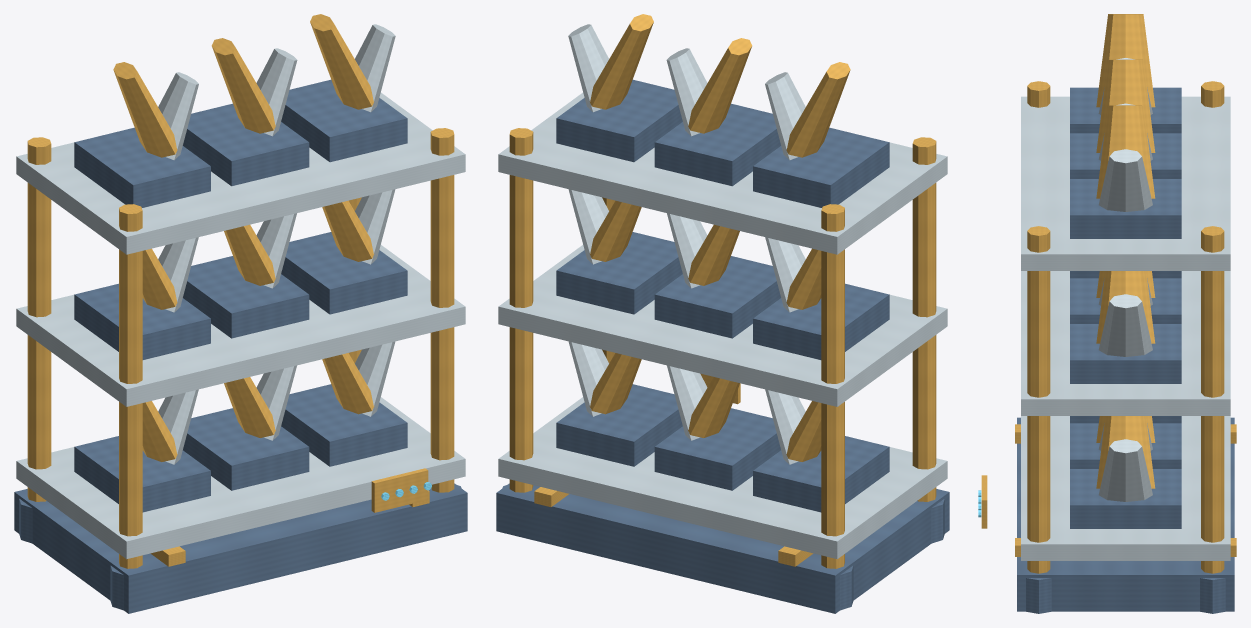
The model's file is atlas100-s054-a01.glb.
3 views of the same model, side by side, from view 1: azimuth 30°, elevation 25°; view 2: azimuth 150°, elevation 25°; view 3: azimuth 270°, elevation 25° (orthographic). The views are drawn at different scales.
Parts seen in each view (by area): view 1: atlas100-s054-a01:part-000, atlas100-s054-a01:part-031, atlas100-s054-a01:part-021, atlas100-s054-a01:part-011, atlas100-s054-a01:part-009, atlas100-s054-a01:part-005, atlas100-s054-a01:part-003, atlas100-s054-a01:part-032, atlas100-s054-a01:part-035, atlas100-s054-a01:part-015, atlas100-s054-a01:part-025, atlas100-s054-a01:part-018 (+23 smaller); view 2: atlas100-s054-a01:part-000, atlas100-s054-a01:part-031, atlas100-s054-a01:part-021, atlas100-s054-a01:part-011, atlas100-s054-a01:part-007, atlas100-s054-a01:part-003, atlas100-s054-a01:part-005, atlas100-s054-a01:part-032, atlas100-s054-a01:part-035, atlas100-s054-a01:part-015, atlas100-s054-a01:part-025, atlas100-s054-a01:part-018 (+22 smaller); view 3: atlas100-s054-a01:part-031, atlas100-s054-a01:part-011, atlas100-s054-a01:part-021, atlas100-s054-a01:part-000, atlas100-s054-a01:part-007, atlas100-s054-a01:part-009, atlas100-s054-a01:part-018, atlas100-s054-a01:part-028, atlas100-s054-a01:part-038, atlas100-s054-a01:part-032, atlas100-s054-a01:part-015, atlas100-s054-a01:part-025 (+16 smaller).
Part boxes in pixels (x1=…): atlas100-s054-a01:part-000: x1=14, y1=483, x2=467, y2=613; atlas100-s054-a01:part-031: x1=16, y1=92, x2=465, y2=254; atlas100-s054-a01:part-021: x1=16, y1=245, x2=465, y2=406; atlas100-s054-a01:part-011: x1=16, y1=397, x2=465, y2=559; atlas100-s054-a01:part-009: x1=430, y1=128, x2=454, y2=492; atlas100-s054-a01:part-005: x1=119, y1=204, x2=142, y2=568; atlas100-s054-a01:part-003: x1=27, y1=137, x2=51, y2=501; atlas100-s054-a01:part-032: x1=74, y1=127, x2=210, y2=207; atlas100-s054-a01:part-035: x1=183, y1=103, x2=309, y2=186; atlas100-s054-a01:part-015: x1=183, y1=408, x2=309, y2=490; atlas100-s054-a01:part-025: x1=183, y1=256, x2=309, y2=338; atlas100-s054-a01:part-018: x1=281, y1=384, x2=407, y2=466; atlas100-s054-a01:part-000: x1=496, y1=483, x2=949, y2=613; atlas100-s054-a01:part-031: x1=498, y1=92, x2=947, y2=254; atlas100-s054-a01:part-021: x1=498, y1=245, x2=947, y2=406; atlas100-s054-a01:part-011: x1=498, y1=397, x2=947, y2=559; atlas100-s054-a01:part-007: x1=509, y1=128, x2=533, y2=492; atlas100-s054-a01:part-003: x1=821, y1=204, x2=844, y2=568; atlas100-s054-a01:part-005: x1=912, y1=137, x2=936, y2=501; atlas100-s054-a01:part-032: x1=753, y1=127, x2=889, y2=207; atlas100-s054-a01:part-035: x1=654, y1=103, x2=780, y2=186; atlas100-s054-a01:part-015: x1=654, y1=408, x2=780, y2=490; atlas100-s054-a01:part-025: x1=654, y1=256, x2=780, y2=338; atlas100-s054-a01:part-018: x1=556, y1=384, x2=682, y2=466; atlas100-s054-a01:part-031: x1=1021, y1=96, x2=1230, y2=270; atlas100-s054-a01:part-011: x1=1021, y1=416, x2=1230, y2=560; atlas100-s054-a01:part-021: x1=1021, y1=271, x2=1230, y2=415; atlas100-s054-a01:part-000: x1=1017, y1=417, x2=1234, y2=611; atlas100-s054-a01:part-007: x1=1201, y1=226, x2=1224, y2=573; atlas100-s054-a01:part-009: x1=1027, y1=226, x2=1050, y2=573; atlas100-s054-a01:part-018: x1=1070, y1=469, x2=1181, y2=528; atlas100-s054-a01:part-028: x1=1070, y1=324, x2=1181, y2=383; atlas100-s054-a01:part-038: x1=1070, y1=179, x2=1181, y2=238; atlas100-s054-a01:part-032: x1=1070, y1=87, x2=1181, y2=133; atlas100-s054-a01:part-015: x1=1070, y1=423, x2=1181, y2=468; atlas100-s054-a01:part-025: x1=1070, y1=278, x2=1181, y2=323.
Bounding box in the file's own units: 2.47 × 3.33 × 1.66.
Materials: 4 (4 with a texture image).
